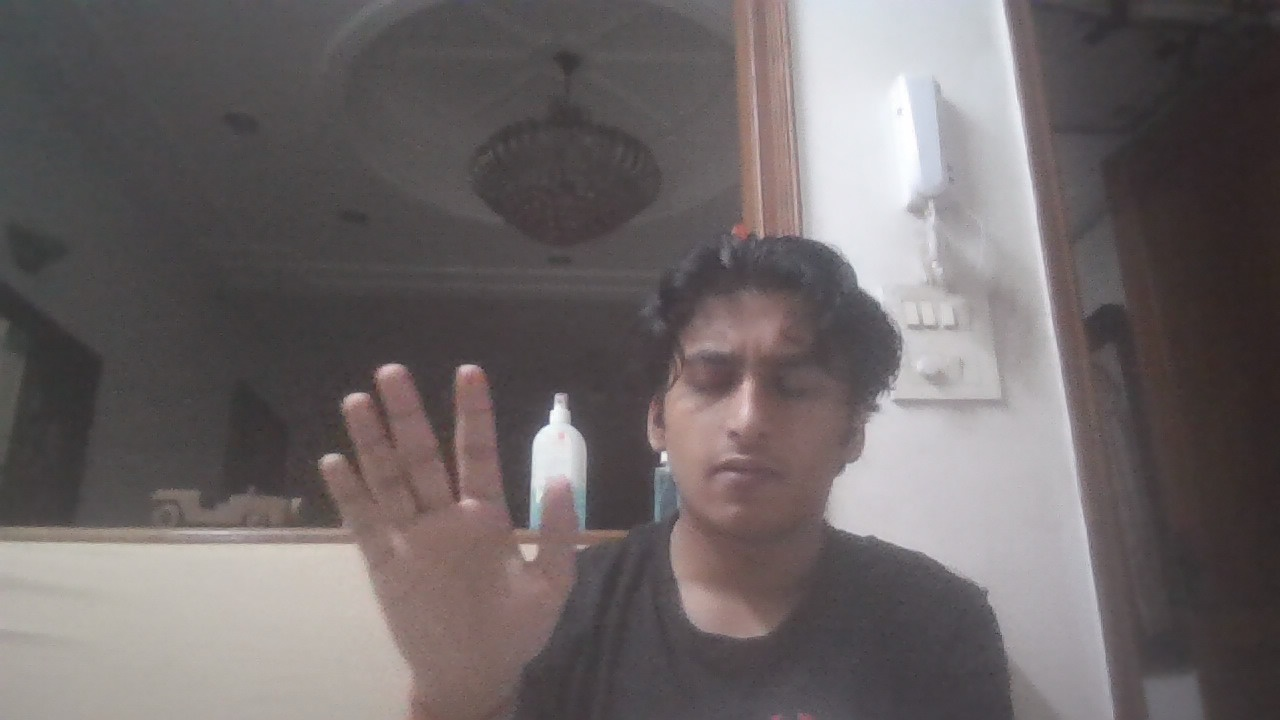bye: (316, 346, 588, 683)
